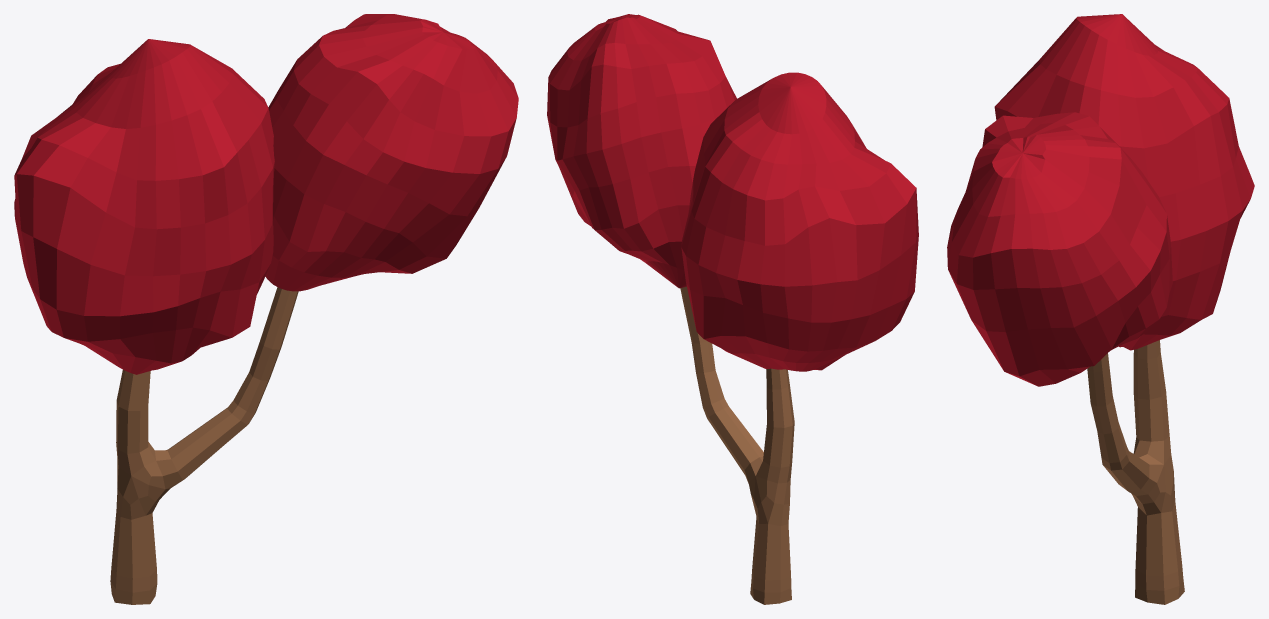
Rendered from tree-dead-complete-12-004.glb.
3 renders of one model, left to right at view 1: azimuth 30°, elevation 25°; view 2: azimuth 150°, elevation 25°; view 3: azimuth 270°, elevation 25°, orthographic. The views are drawn at different scales.
Parts seen in each view (by area): view 1: TREE 12.007_501, TREE 12.006_502; view 2: TREE 12.007_501, TREE 12.006_502; view 3: TREE 12.007_501, TREE 12.006_502.
Part boxes in pixels (x1,y1,x2,y2): TREE 12.007_501: (14,14,518,374); TREE 12.006_502: (110,287,298,604); TREE 12.007_501: (547,14,918,371); TREE 12.006_502: (680,286,794,604); TREE 12.007_501: (947,14,1254,386); TREE 12.006_502: (1087,340,1184,604).
Size of the model in its own units: 1.4 by 1.72 by 0.828.
